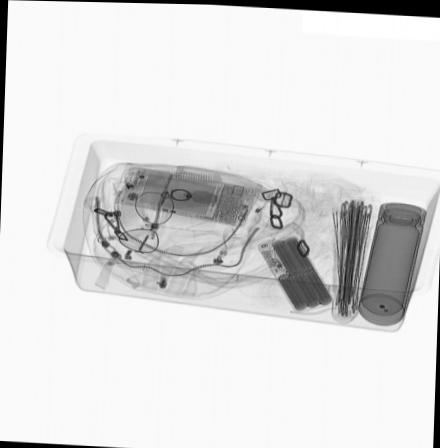Powerbank: (251, 232, 339, 314)
